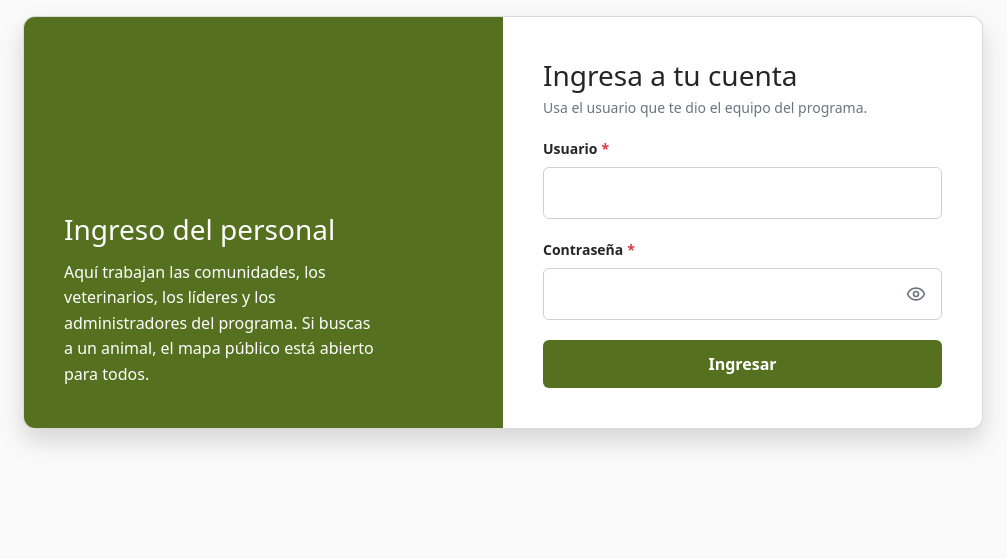
Test case: PaginaIngreso › explica sin dar pistas cuando las credenciales no coinciden
Step 1. Type "dr.rojas" into the field labelled "Usuario*" → (742, 193), box [543,167,942,219]
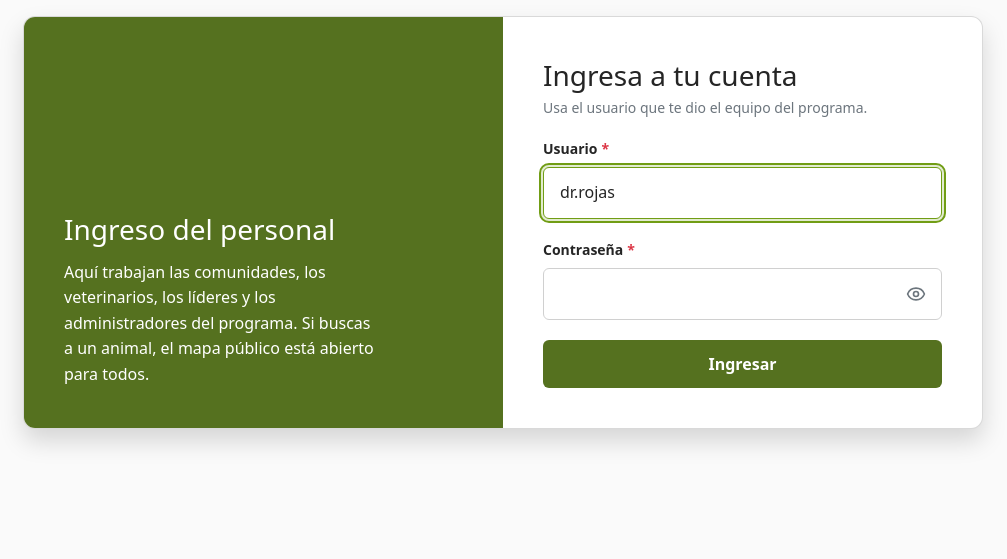
Step 2. Type "secreto" into the password field labelled "Contraseña*" → (742, 294), box [543,268,942,320]
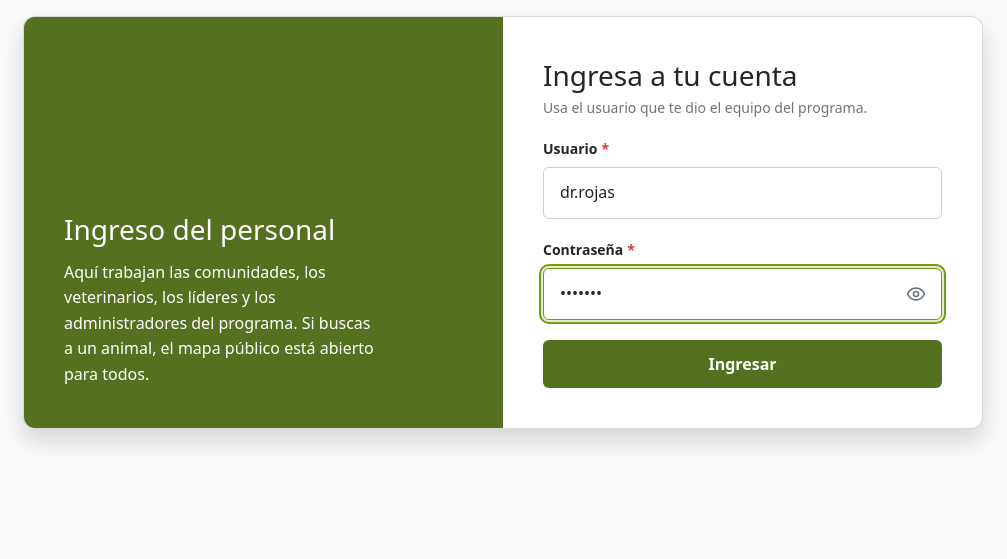
Step 3. Click the button "Ingresar" → (742, 364), box [543,340,942,388]
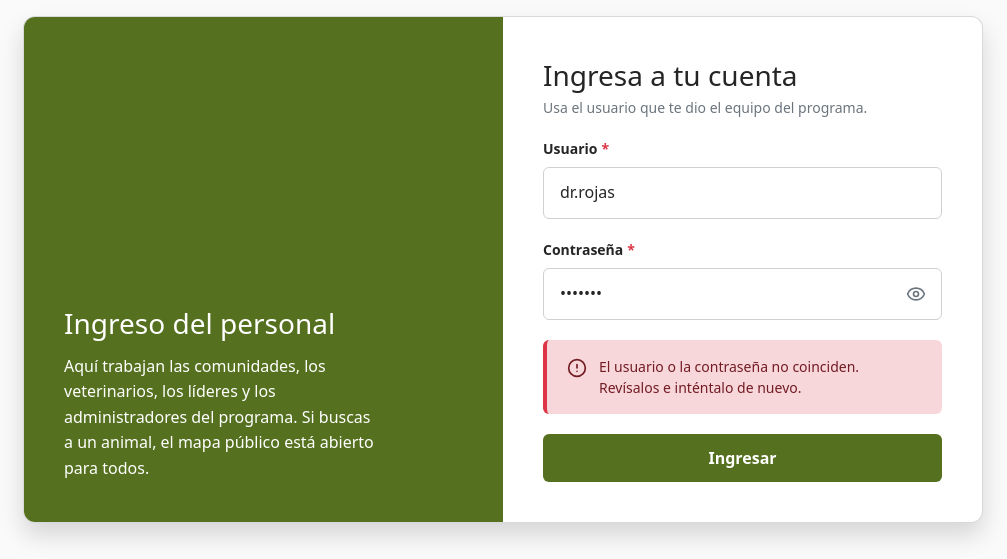
expect the button "Ingresar" is enabled: met, box [543,434,942,482]
expect the text "no coinciden" is shown: met, box [599,357,859,397]
